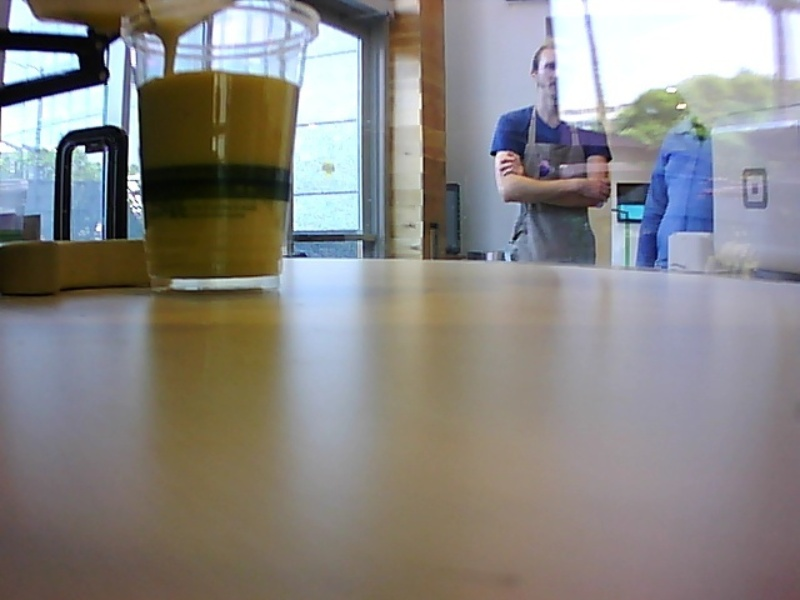cup: (113, 1, 324, 300)
limit: (134, 64, 304, 93)
